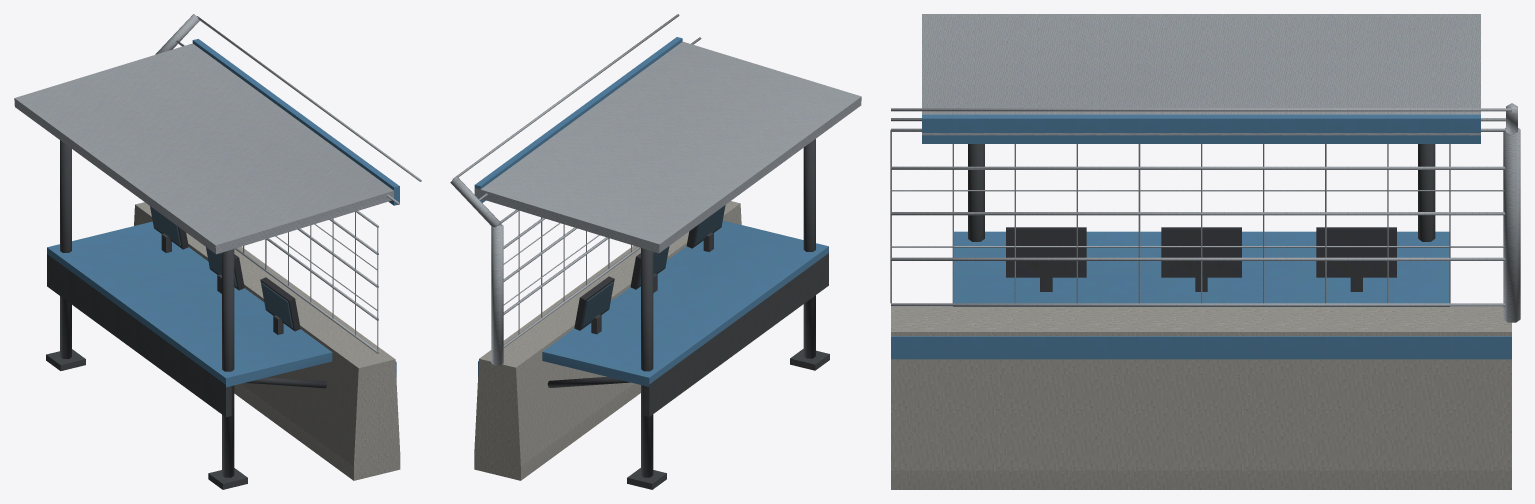
Rendered from pit-wall_mobile.glb.
3 views of the same model, side by side, from view 1: azimuth 30°, elevation 25°; view 2: azimuth 150°, elevation 25°; view 3: azimuth 270°, elevation 25° (orthographic). The views are drawn at different scales.
Visible parts, largest first — view 1: galvanised, paint-band, concrete, dark-steel, glazing, rubber; view 2: galvanised, paint-band, concrete, dark-steel, glazing, rubber; view 3: concrete, galvanised, paint-band, rubber, dark-steel.
Boxes of the visible parts, x1=… form: galvanised: x1=14, y1=14, x2=421, y2=353; paint-band: x1=47, y1=39, x2=399, y2=387; concrete: x1=134, y1=202, x2=400, y2=480; dark-steel: x1=46, y1=140, x2=326, y2=489; glazing: x1=150, y1=206, x2=292, y2=327; rubber: x1=150, y1=206, x2=300, y2=331; galvanised: x1=450, y1=14, x2=861, y2=365; paint-band: x1=474, y1=37, x2=828, y2=386; concrete: x1=474, y1=201, x2=741, y2=480; dark-steel: x1=547, y1=139, x2=829, y2=489; glazing: x1=582, y1=205, x2=725, y2=326; rubber: x1=574, y1=206, x2=725, y2=330; concrete: x1=891, y1=307, x2=1511, y2=489; galvanised: x1=890, y1=14, x2=1520, y2=322; paint-band: x1=891, y1=114, x2=1511, y2=359; rubber: x1=1006, y1=227, x2=1396, y2=277; dark-steel: x1=968, y1=144, x2=1435, y2=291.
Bounding box in the file's own units: 2.03 × 2.84 × 4.06.
6 materials, 5 textured.
